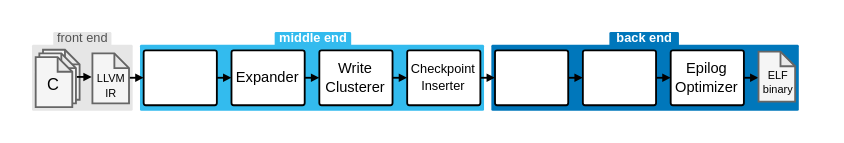
The diagram is 844 pixels wide and 143 high, and some of its shapes have lost their labels. The centre of each missing label's shape, as x and y in pixels:
Idempotent Stack Pop Converter: the point at 618,76
Loop Write Clusterer: the point at 179,76
Stack Spill Checkpoint Inserter: the point at 530,76
